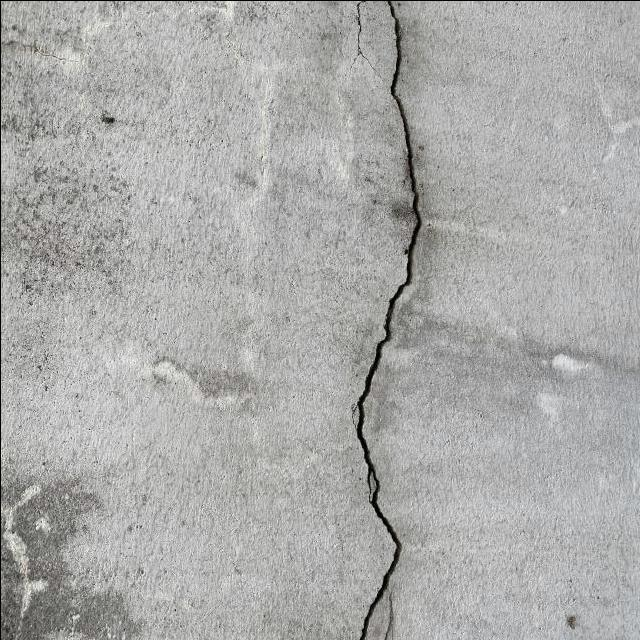SurfaceCrack: (309, 0, 465, 640)
